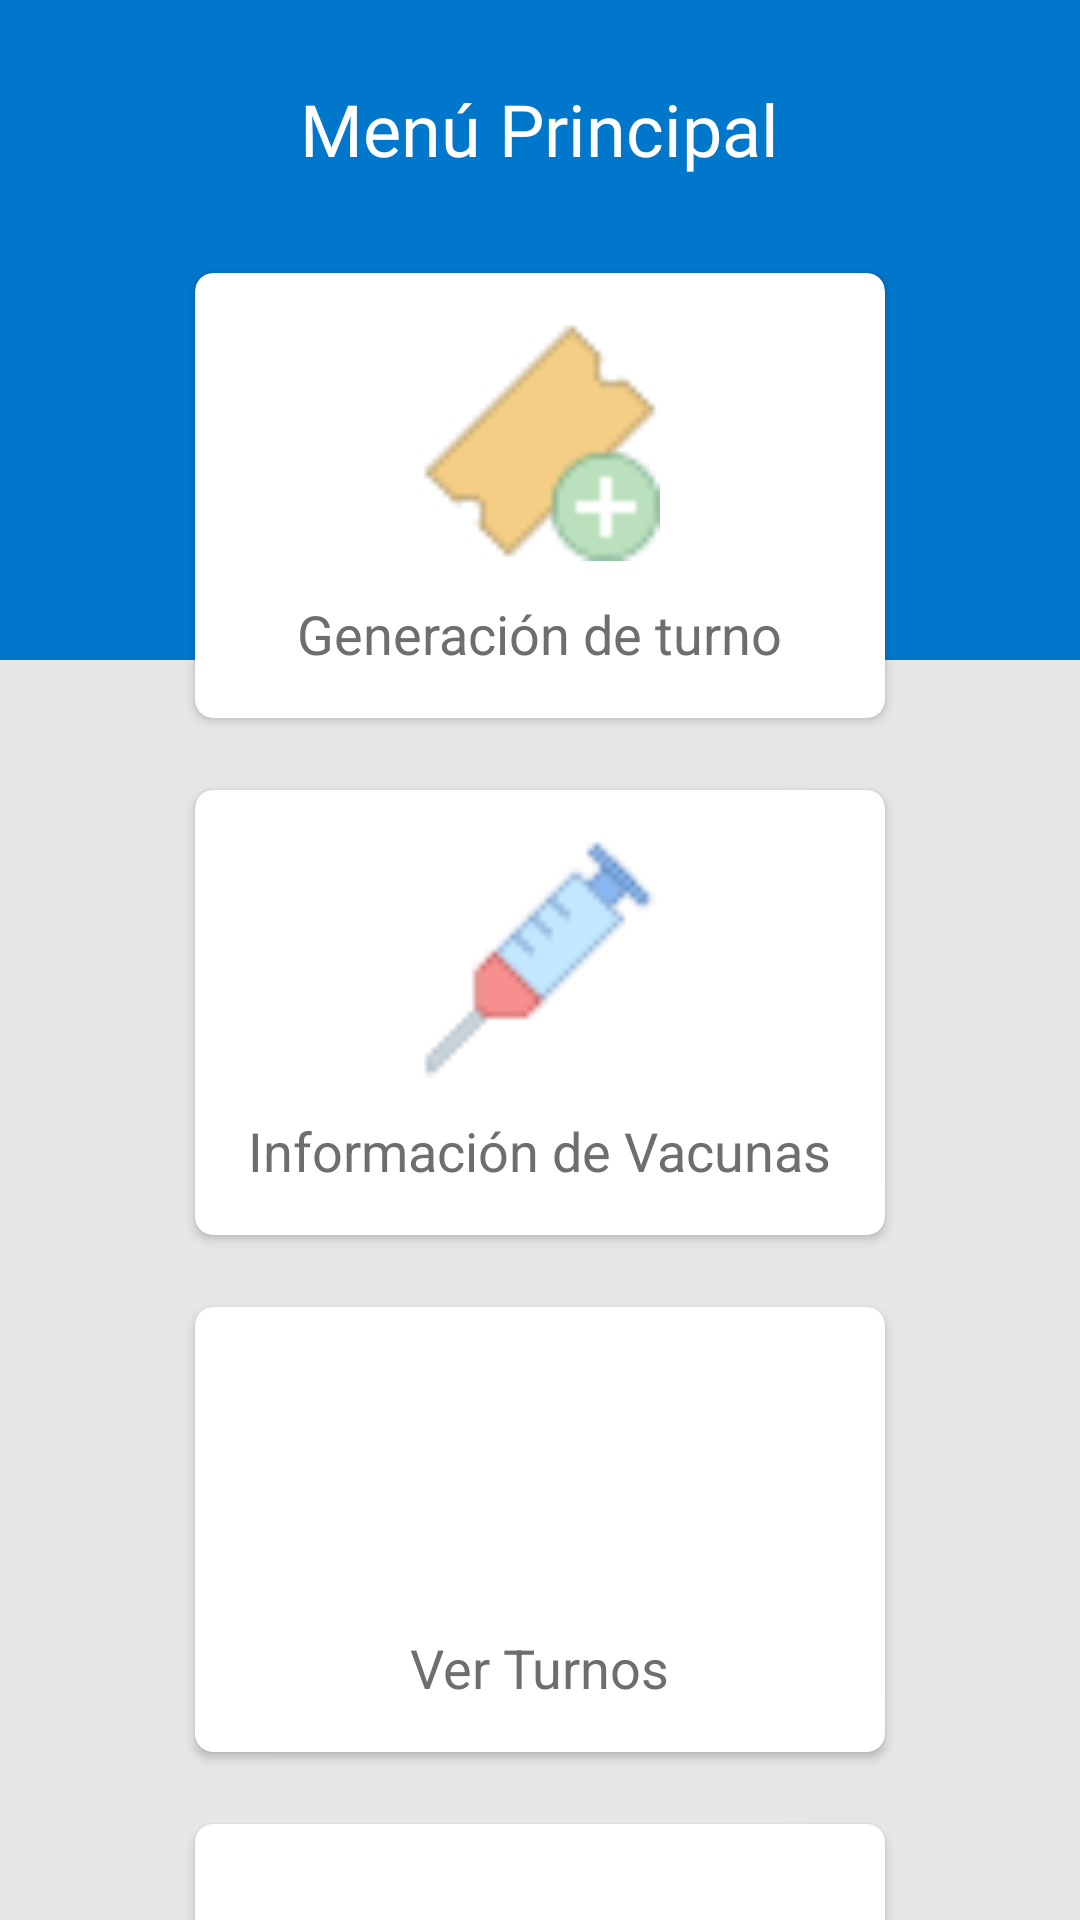

Icons on this 1080px x 1920px Android screen, each with its box as (x1, y1, x2, y2):
jeringa: (425, 842, 651, 1074)
ticket: (424, 325, 660, 561)
